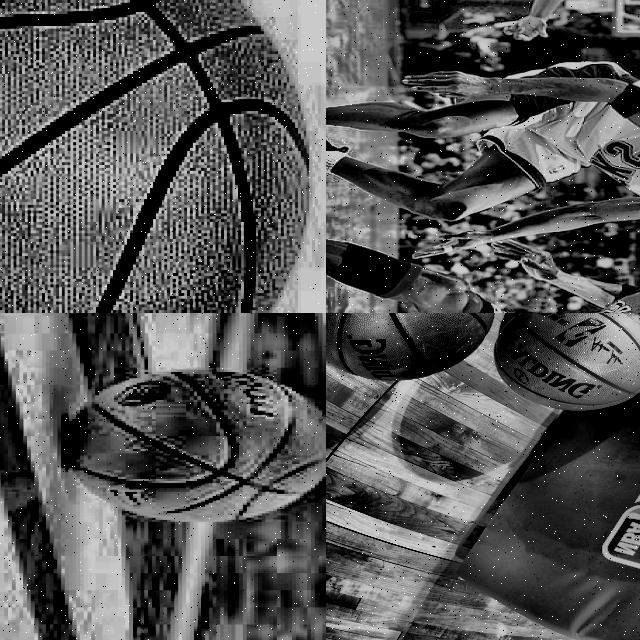Basketball: (64, 368, 326, 522), (493, 313, 640, 411), (326, 313, 493, 380)
